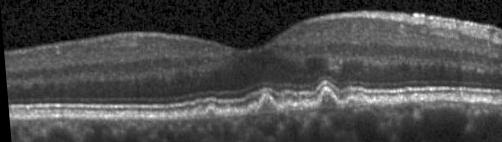retinal_drusen: (256, 95, 277, 116), (318, 91, 335, 112), (282, 103, 304, 115), (355, 95, 366, 106), (204, 109, 213, 118), (347, 100, 354, 107), (249, 108, 254, 115)
